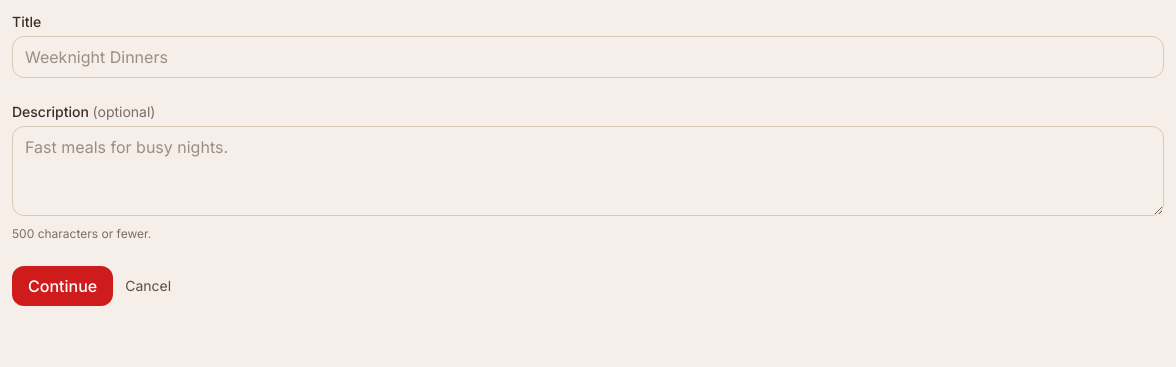
Test: CookbookForm › repopulates the form from the values echoed back by the server
Click the button "Continue" at (63, 286), box [12,266,113,306]
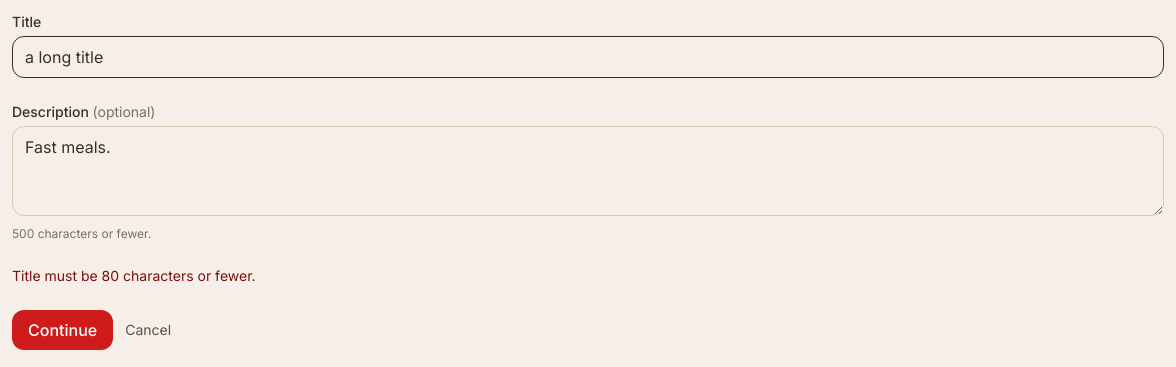
Check: the message "Title must be 80 characters or fewer." is shown, box [12,267,256,284]
Check: the field labelled "Title" holds "a long title", box [12,36,1164,78]
Check: the text box labelled "Description (optional)" holds "Fast meals.", box [12,126,1164,216]
